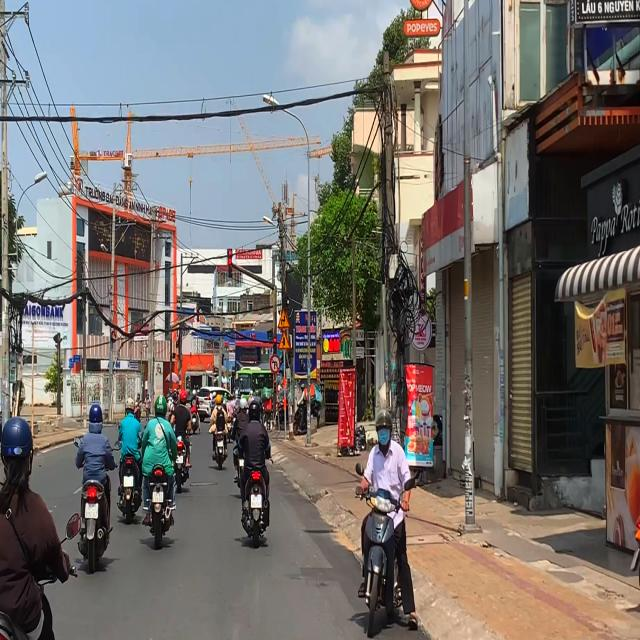Cam con lai: (270, 354, 280, 374)
Giao voi duong khong uu tien: (278, 330, 291, 350)
Nguy hiem: (277, 307, 290, 329)
